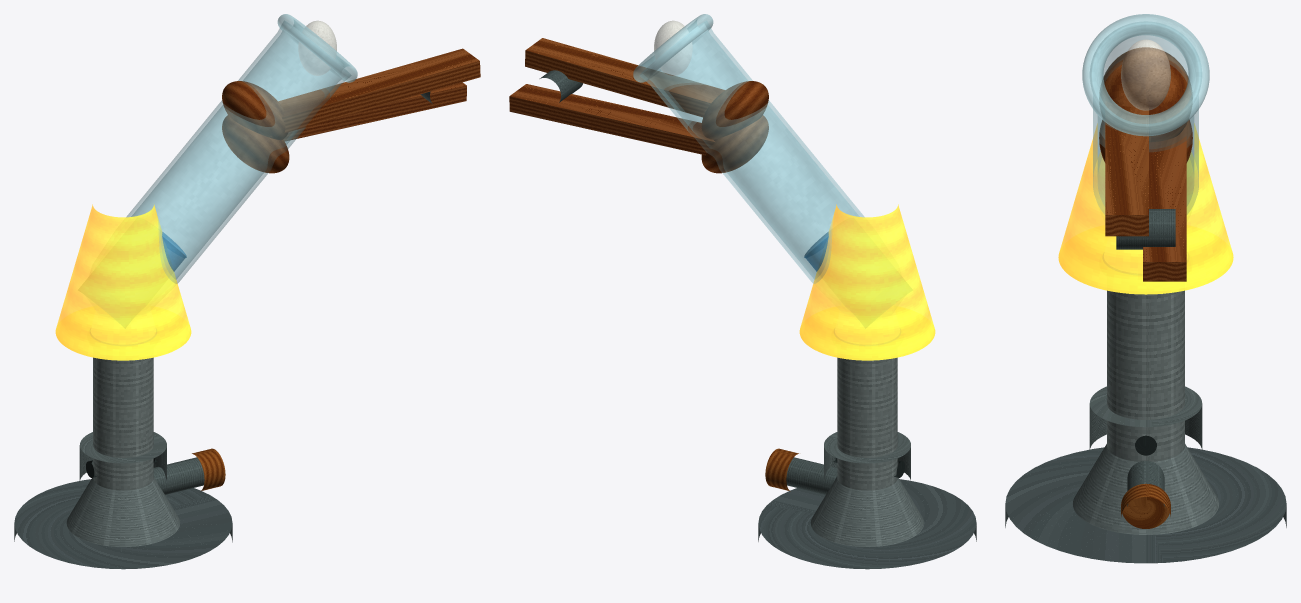
File: alat-04.glb
The picture shows the model from 3 angles, left to right: view 1: azimuth 30°, elevation 25°; view 2: azimuth 150°, elevation 25°; view 3: azimuth 270°, elevation 25°; orthographic projection. The views are drawn at different scales.
Visible parts, largest first — view 1: heatedTubePart-0, flameOuter-18, cylinder-9, cylinder-11, heatedTubePart-4, cone-10, heatedTubePart-5, heatedTubePart-7, heatedTubePart-8, heatedTubePart-1, airCollar-13, cylinder-16 (+1 smaller); view 2: heatedTubePart-0, flameOuter-18, cylinder-9, cylinder-11, heatedTubePart-4, heatedTubePart-5, cone-10, heatedTubePart-7, heatedTubePart-8, heatedTubePart-1, airCollar-13, cylinder-16 (+1 smaller); view 3: cylinder-9, cylinder-11, flameOuter-18, heatedTubePart-1, cone-10, heatedTubePart-0, heatedTubePart-7, heatedTubePart-4, heatedTubePart-5, heatedTubeSteam-34, heatedTubeSteam-35, airCollar-13 (+4 smaller).
Part boxes in pixels (left/top/right/bottom): heatedTubePart-0: left=126, top=21, right=350, bottom=283; flameOuter-18: left=55, top=204, right=191, bottom=360; cylinder-9: left=14, top=479, right=232, bottom=569; cylinder-11: left=93, top=357, right=153, bottom=490; heatedTubePart-4: left=270, top=48, right=480, bottom=136; cone-10: left=66, top=476, right=180, bottom=546; heatedTubePart-5: left=283, top=82, right=466, bottom=140; heatedTubePart-7: left=222, top=81, right=287, bottom=140; heatedTubePart-8: left=222, top=115, right=289, bottom=173; heatedTubePart-1: left=277, top=14, right=357, bottom=82; airCollar-13: left=79, top=432, right=166, bottom=481; cylinder-16: left=153, top=457, right=204, bottom=494; heatedTubePart-0: left=640, top=21, right=864, bottom=283; flameOuter-18: left=799, top=204, right=935, bottom=360; cylinder-9: left=758, top=479, right=976, bottom=569; cylinder-11: left=837, top=357, right=897, bottom=490; heatedTubePart-4: left=525, top=38, right=724, bottom=117; heatedTubePart-5: left=509, top=84, right=715, bottom=155; cone-10: left=810, top=476, right=924, bottom=546; heatedTubePart-7: left=701, top=81, right=768, bottom=139; heatedTubePart-8: left=701, top=115, right=768, bottom=173; heatedTubePart-1: left=633, top=14, right=713, bottom=82; airCollar-13: left=824, top=432, right=910, bottom=480; cylinder-16: left=786, top=457, right=837, bottom=494; cylinder-9: left=1005, top=447, right=1286, bottom=563; cylinder-11: left=1107, top=290, right=1184, bottom=461; flameOuter-18: left=1058, top=123, right=1233, bottom=294; heatedTubePart-1: left=1082, top=14, right=1209, bottom=136; cone-10: left=1073, top=444, right=1218, bottom=534; heatedTubePart-0: left=1090, top=21, right=1201, bottom=214; heatedTubePart-7: left=1099, top=47, right=1192, bottom=142; heatedTubePart-4: left=1105, top=101, right=1148, bottom=236; heatedTubePart-5: left=1143, top=126, right=1186, bottom=281; heatedTubeSteam-34: left=1121, top=40, right=1170, bottom=109; heatedTubeSteam-35: left=1121, top=40, right=1170, bottom=109; airCollar-13: left=1089, top=386, right=1202, bottom=450.
Size of the model in its own units: 4.16 by 4.39 by 1.8.
41 materials, 41 textured.
